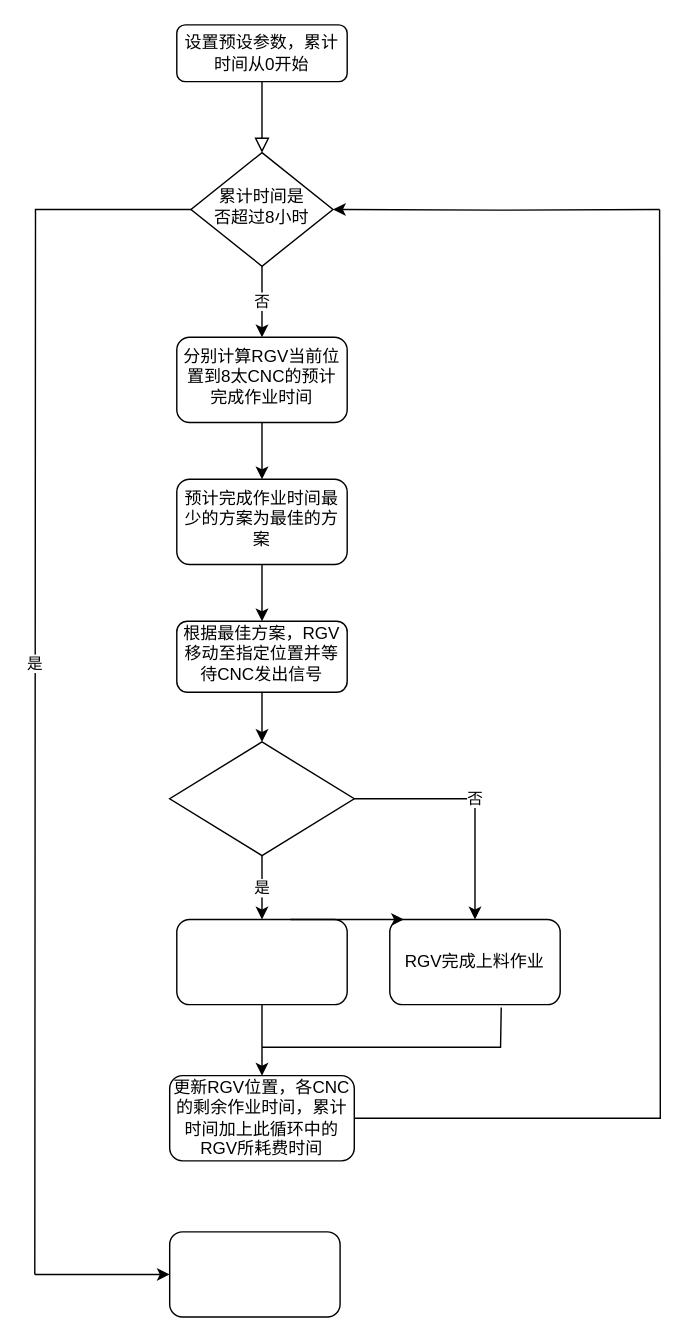
Some shapes in this 696 by 1342 pixel diagram are drawn without their labels. Here are the shapes that lost their labels. From the top down, the centre of each, then its label:
At point 261,798: "此CNC是否已有物料".
At point 261,961: "RGV完成上下料作业，开始清洗作业".
At point 254,1273: "结束循环并输出工件加工情况".
